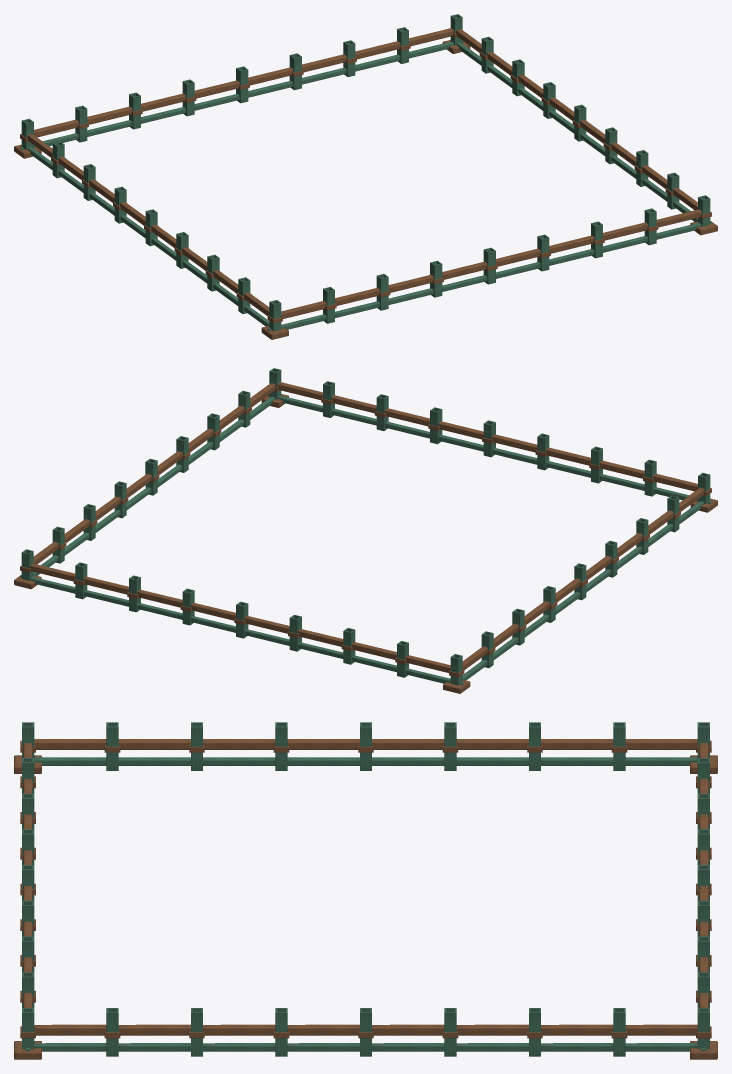
The picture shows the model from 3 angles, top to bottom: view 1: azimuth 30°, elevation 25°; view 2: azimuth 150°, elevation 25°; view 3: azimuth 270°, elevation 25°; orthographic projection. The views are drawn at different scales.
Parts seen in each view (by area): view 1: no part large enough to name; view 2: no part large enough to name; view 3: Tier 0 bay 1-0-1 copper tie, Tier 0 bay 1-0-3 copper tie, Tier 0 bay 1-0-4 copper tie, Tier 0 bay 1-0-5 copper tie, Tier 0 bay 1-0-6 copper tie, Tier 0 bay 1-0-2 copper tie, Tier 0 bay 1-0-7 copper tie, Tier 0 bay 1-0-0 copper tie, Tier 0 bay 3-0-1 copper tie, Tier 0 bay 3-0-6 copper tie, Tier 0 bay 3-0-2 copper tie, Tier 0 bay 3-0-3 copper tie (+28 smaller).
Boxes of the visible parts, left/top/right/bottom form: Tier 0 bay 1-0-1 copper tie: left=118, top=1024, right=190, bottom=1035; Tier 0 bay 1-0-3 copper tie: left=287, top=1024, right=359, bottom=1035; Tier 0 bay 1-0-4 copper tie: left=372, top=1024, right=444, bottom=1035; Tier 0 bay 1-0-5 copper tie: left=456, top=1024, right=528, bottom=1035; Tier 0 bay 1-0-6 copper tie: left=541, top=1024, right=613, bottom=1035; Tier 0 bay 1-0-2 copper tie: left=203, top=1024, right=275, bottom=1035; Tier 0 bay 1-0-7 copper tie: left=625, top=1024, right=697, bottom=1035; Tier 0 bay 1-0-0 copper tie: left=34, top=1024, right=106, bottom=1035; Tier 0 bay 3-0-1 copper tie: left=541, top=739, right=613, bottom=749; Tier 0 bay 3-0-6 copper tie: left=118, top=739, right=190, bottom=749; Tier 0 bay 3-0-2 copper tie: left=456, top=739, right=528, bottom=749; Tier 0 bay 3-0-3 copper tie: left=372, top=739, right=444, bottom=749.
Size of the model in its own units: 3.75 by 0.2571 by 3.75.
Materials: 2 (2 with a texture image).
